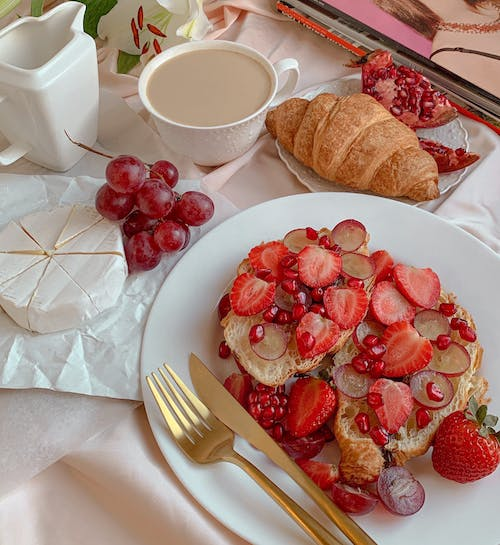knife: (187, 350, 382, 545)
